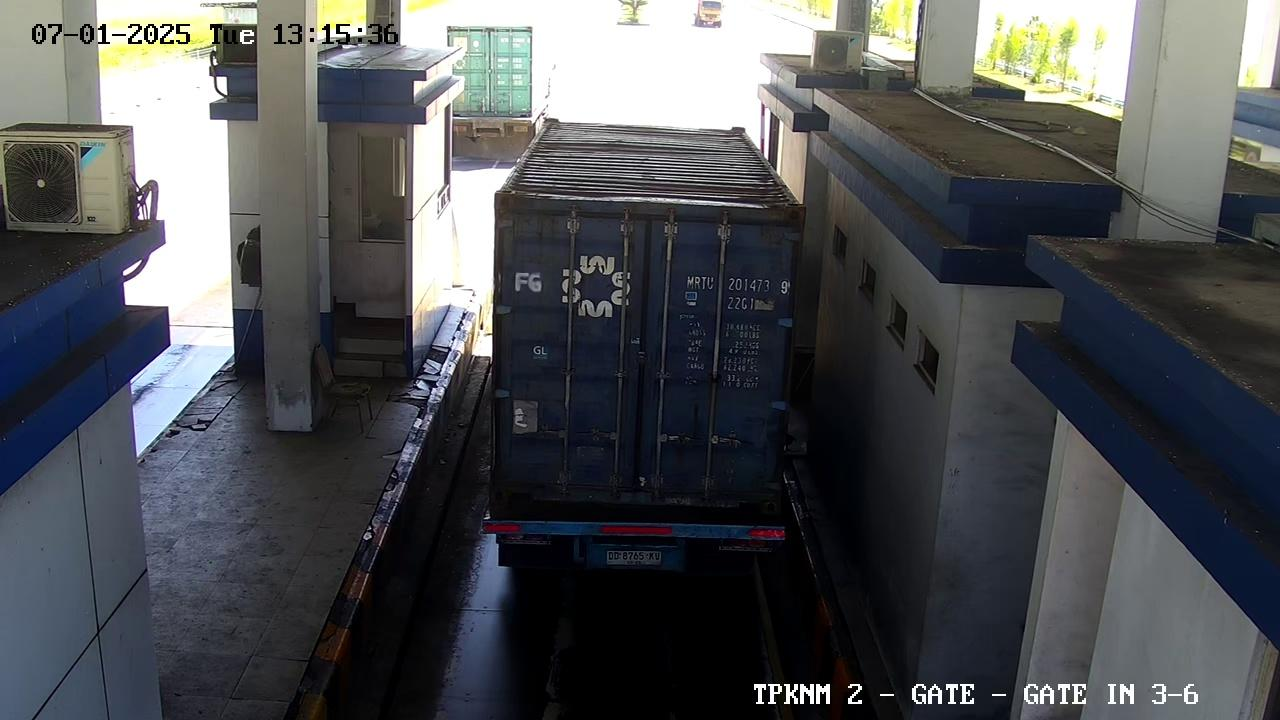Container_ID: (669, 264, 805, 321)
plate_number: (594, 533, 677, 581)
